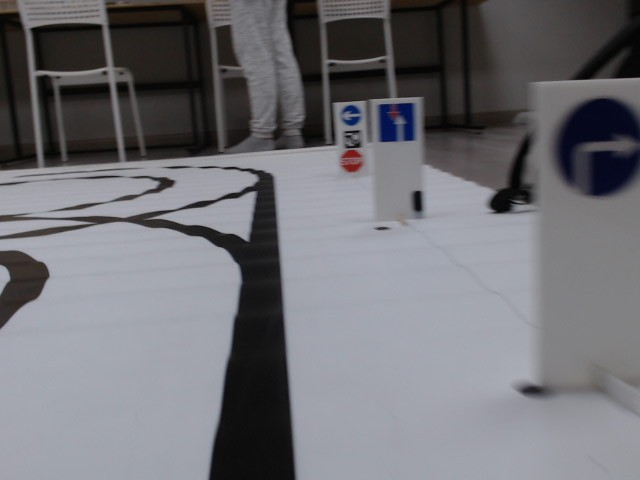Right: (549, 94, 640, 203)
Stop: (339, 149, 363, 171)
priority_movement: (377, 103, 417, 142)
